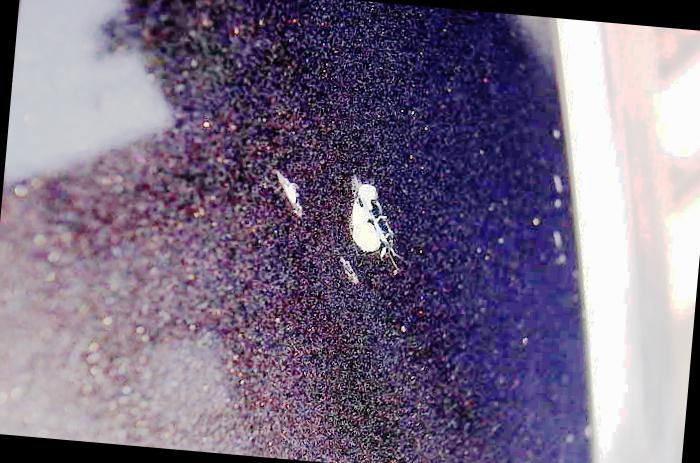Bird Poop: (350, 178, 396, 266), (277, 170, 300, 215), (341, 256, 358, 283)
